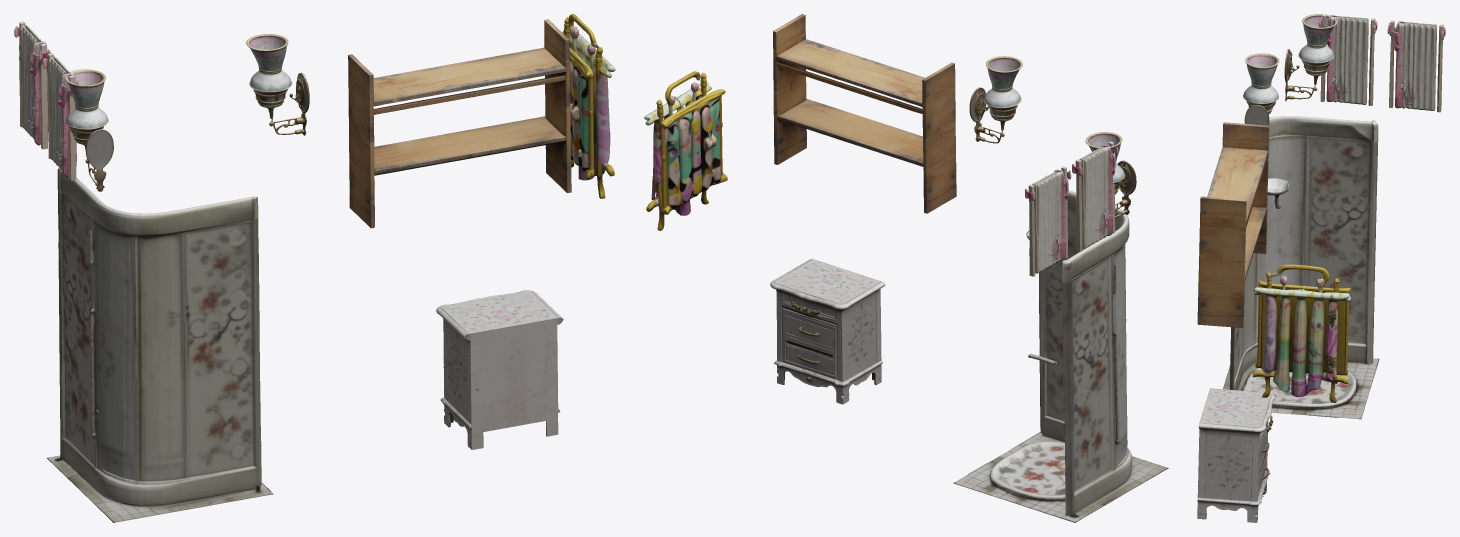
Rendered from gallery-sage-d215da79-lowres.glb.
The picture shows the model from 3 angles, left to right: view 1: azimuth 30°, elevation 25°; view 2: azimuth 150°, elevation 25°; view 3: azimuth 270°, elevation 25°; orthographic projection. The views are drawn at different scales.
Parts seen in each view (by area): view 1: instance_3, instance_2, instance_7, instance_6, instance_0, instance_1, instance_4, instance_5; view 2: instance_3, instance_2, instance_7, instance_6, instance_4, instance_5, instance_1, instance_0; view 3: instance_3, instance_2, instance_6, instance_7, instance_4, instance_5, instance_0, instance_1.
Boxes of the visible parts, x1,y1,x2,y2 form: instance_3: (47,168,272,522); instance_2: (348,19,571,228); instance_7: (436,290,563,449); instance_6: (562,14,615,198); instance_0: (65,69,113,191); instance_1: (246,34,309,135); instance_4: (14,21,50,149); instance_5: (43,53,79,180); instance_3: (953,190,1168,522); instance_2: (773,14,956,213); instance_7: (770,258,885,404); instance_6: (644,71,727,230); instance_4: (1025,166,1071,276); instance_5: (1072,141,1118,251); instance_1: (969,56,1022,143); instance_0: (1085,132,1136,217); instance_3: (1223,116,1379,419); instance_2: (1197,122,1269,327); instance_6: (1252,264,1350,402); instance_7: (1197,388,1275,522); instance_4: (1387,20,1445,112); instance_5: (1319,14,1377,105); instance_0: (1284,14,1337,100); instance_1: (1243,53,1279,125).
Bounding box in the file's own units: 1.66 × 1.3 × 0.8108.
Materials: 8 (8 with a texture image).
